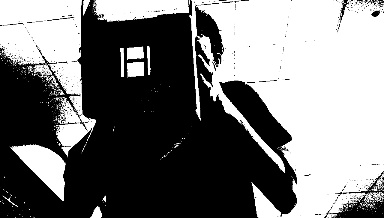H: (118, 45, 152, 76)
